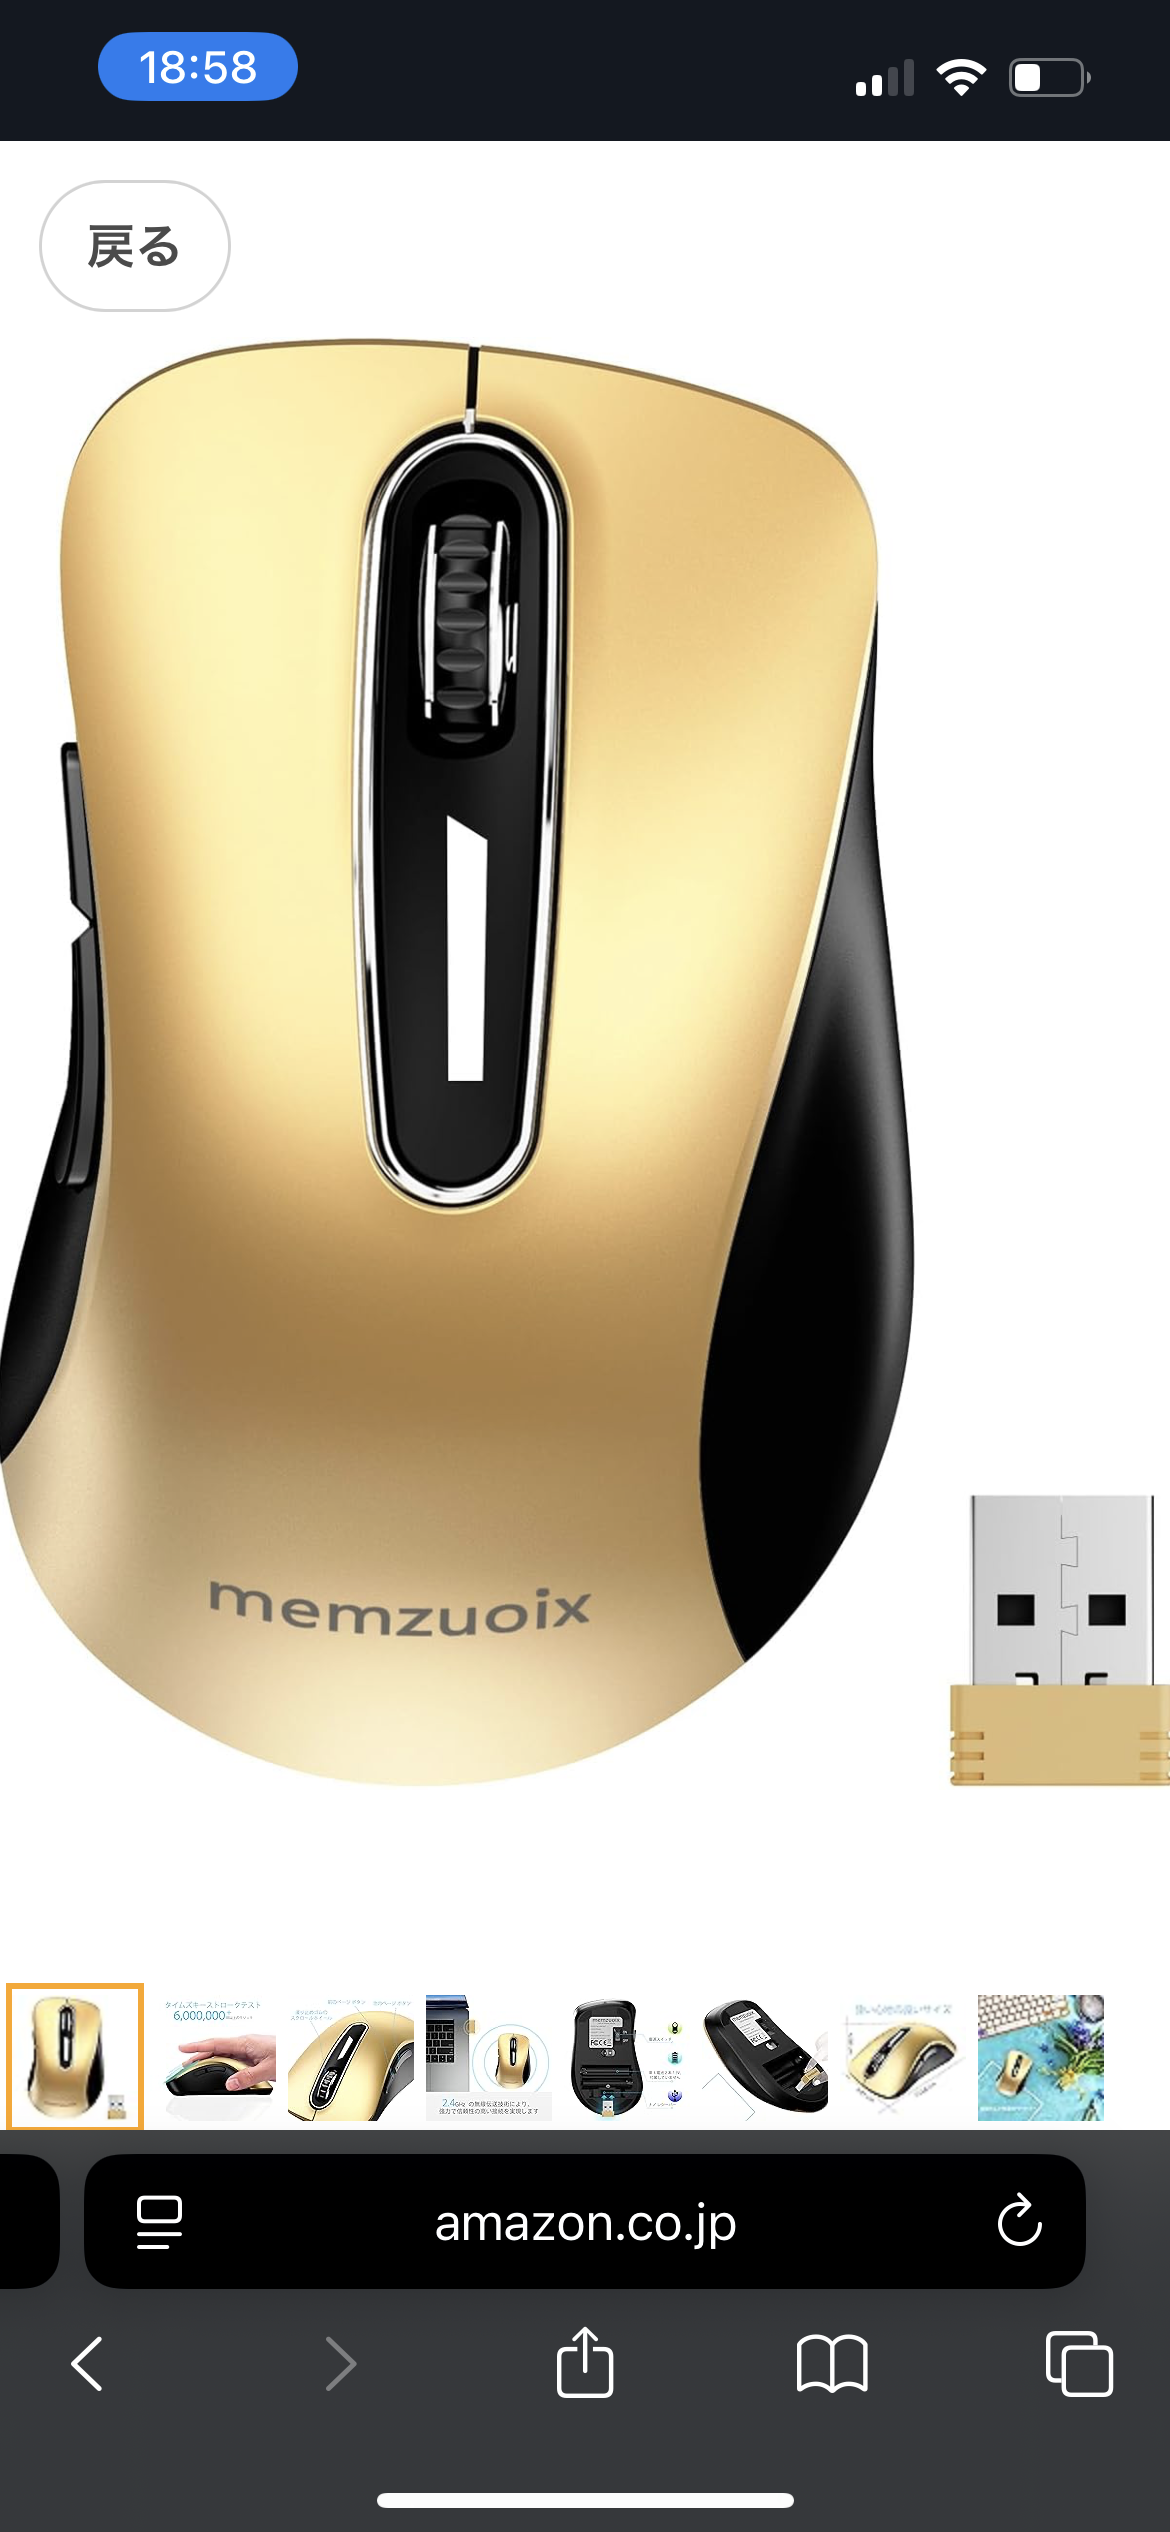mouse: (481, 329, 640, 1823)
